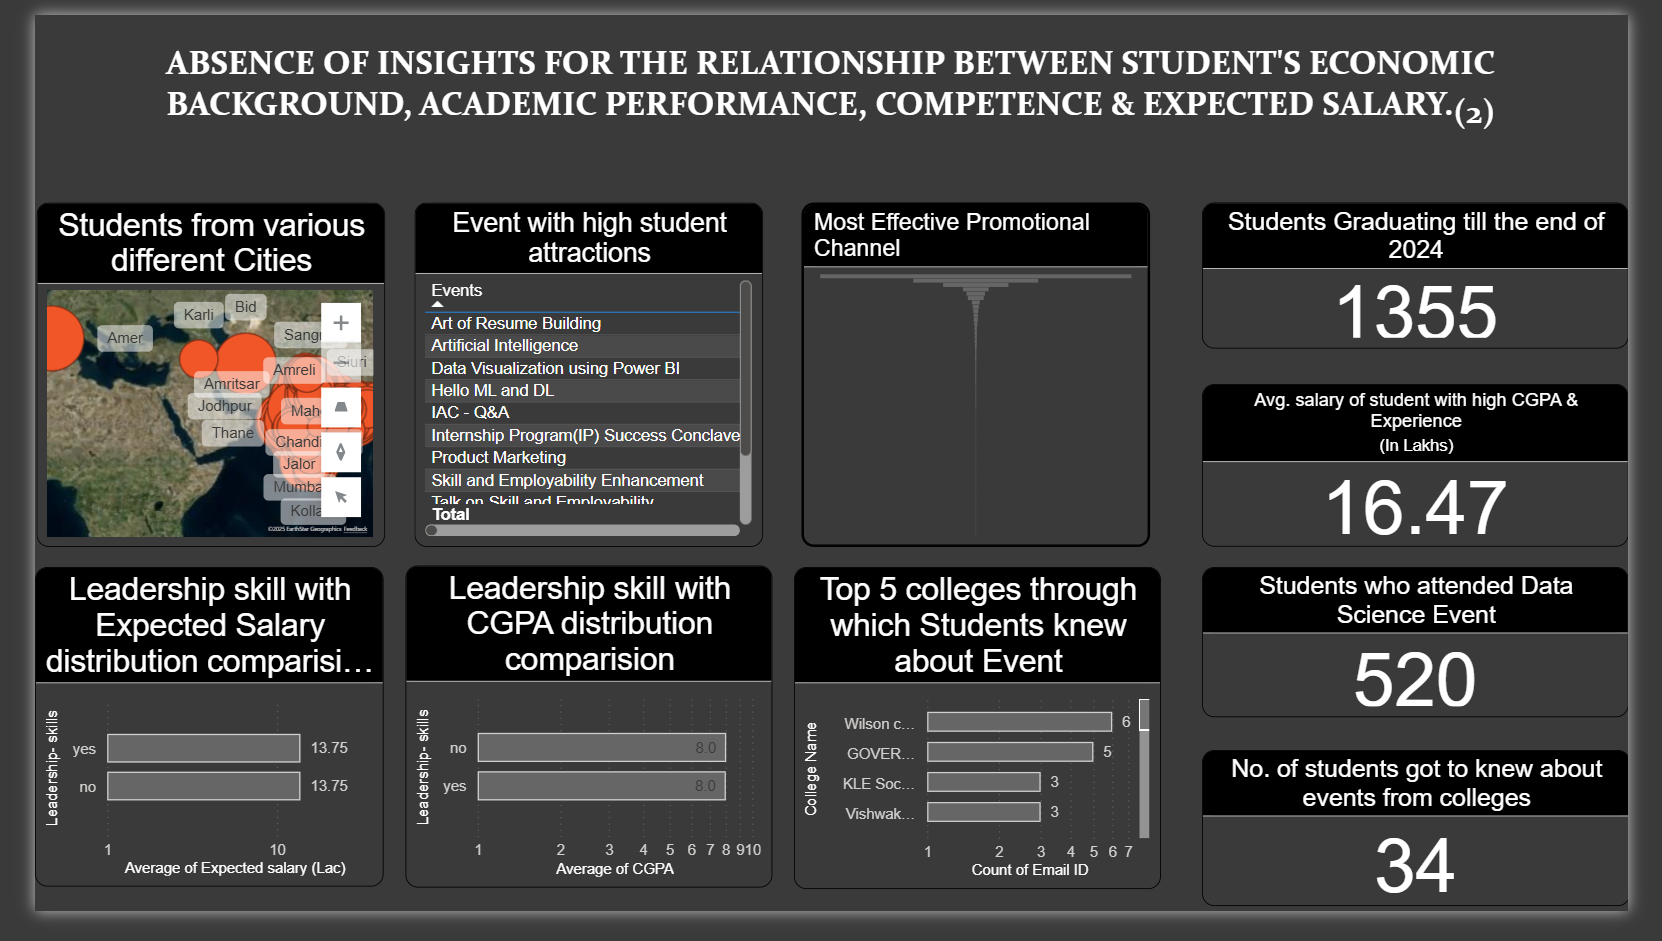

Layout of this report page (visuals, bound fields, positions):
{"tool":"powerbi","page":{"name":"Page 2","canvas":[1280,720],"ordinal":1},"visuals":[{"type":"azureMap","title":"Students from various different Cities","fields":{"Category":["Cleaned_All Events Data.City"],"Size":["CountNonNull(Cleaned_All Events Data.Email ID)"]},"box":[1.7,150.7,279.9,276.6],"z":0},{"type":"pivotTable","title":"Event with high student attractions","fields":{"Values":["Count(Cleaned_All Events Data.Email ID)"],"Rows":["Cleaned_All Events Data.Events"],"Columns":["Cleaned_All Events Data.Designation"]},"box":[304.8,150.7,279.9,276.6],"z":1000},{"type":"clusteredBarChart","title":"Leadership skill with CGPA distribution comparision","fields":{"Category":["Cleaned_All Events Data.Leadership- skills"],"Y":["Avg(Cleaned_All Events Data.CGPA)"]},"box":[298.2,442.3,294.9,258.4],"z":2000},{"type":"clusteredBarChart","title":"Leadership skill with Expected Salary distribution comparision","fields":{"Category":["Cleaned_All Events Data.Leadership- skills"],"Y":["Avg(Cleaned_All Events Data.Expected salary (Lac))"]},"box":[0,443.9,279.9,256.8],"z":3000},{"type":"card","title":"Students Graduating till the end of 2024","fields":{"Values":["Count(Cleaned_All Events Data.Email ID)"]},"box":[937.6,150.7,342.9,117.6],"z":4000},{"type":"clusteredBarChart","title":"Top 5 colleges through which Students knew about Event","fields":{"Y":["Count(Cleaned_All Events Data.Email ID)"],"Category":["Cleaned_All Events Data.College Name"]},"box":[609.6,443.9,294.9,258.4],"z":5000},{"type":"card","title":"No. of  students got to knew about events from colleges","fields":{"Values":["Count(Cleaned_All Events Data.Email ID)"]},"box":[936.8,589.8,343.8,125.4],"z":6000},{"type":"card","title":"Avg. salary of student with high CGPA & Experience ","fields":{"Values":["Avg(Cleaned_All Events Data.Expected salary (Lac))"]},"box":[937.6,296.5,342.9,130.9],"z":7000},{"type":"card","title":"Students who attended Data Science Event","fields":{"Values":["Count(Cleaned_All Events Data.Email ID)"]},"box":[937.6,443.9,342.9,120.9],"z":8000},{"type":"funnel","title":"Most Effective Promotional Channel ","fields":{"Category":["Cleaned_All Events Data.How did you come to know about this event?"],"Y":["Count(Cleaned_All Events Data.Email ID)"]},"box":[616.2,150.7,279.9,276.6],"z":9000},{"type":"textbox","box":[102.5,16.3,1123.9,110.6],"z":10000}]}

Visuals, with their boxes in screenshot pixels (x1, y1, x2, y2), scaled from the page's 1280x720 canvas onto the 1662x941 screenshot:
"Students from various different Cities" azureMap: bbox(2, 197, 366, 558)
"Event with high student attractions" pivotTable: bbox(396, 197, 759, 558)
"Leadership skill with CGPA distribution comparision" clusteredBarChart: bbox(387, 578, 770, 916)
"Leadership skill with Expected Salary distribution comparision" clusteredBarChart: bbox(0, 580, 363, 916)
"Students Graduating till the end of 2024" card: bbox(1217, 197, 1661, 351)
"Top 5 colleges through which Students knew about Event" clusteredBarChart: bbox(792, 580, 1174, 918)
"No. of  students got to knew about events from colleges" card: bbox(1216, 771, 1661, 935)
"Avg. salary of student with high CGPA & Experience " card: bbox(1217, 388, 1661, 559)
"Students who attended Data Science Event" card: bbox(1217, 580, 1661, 738)
"Most Effective Promotional Channel " funnel: bbox(800, 197, 1164, 558)
textbox: bbox(133, 21, 1592, 166)
